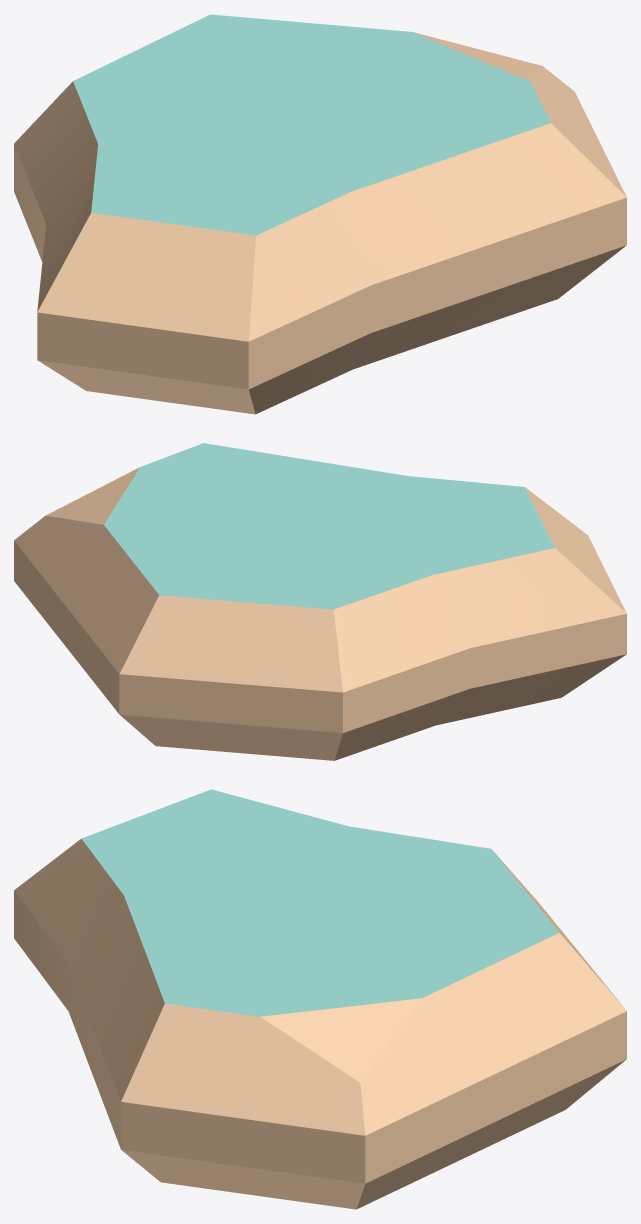
The model's file is rock_large5.glb.
3 renders of one model, top to bottom at view 1: azimuth 30°, elevation 25°; view 2: azimuth 150°, elevation 25°; view 3: azimuth 270°, elevation 25°, orthographic. The views are drawn at different scales.
Parts seen in each view (by area): view 1: rock_large5; view 2: rock_large5; view 3: rock_large5.
Boxes of the visible parts, x1=… form: rock_large5: x1=14, y1=14, x2=626, y2=414; rock_large5: x1=14, y1=443, x2=626, y2=760; rock_large5: x1=14, y1=789, x2=626, y2=1209.
Bounding box in the file's own units: 1.1 × 0.2922 × 0.9199.
